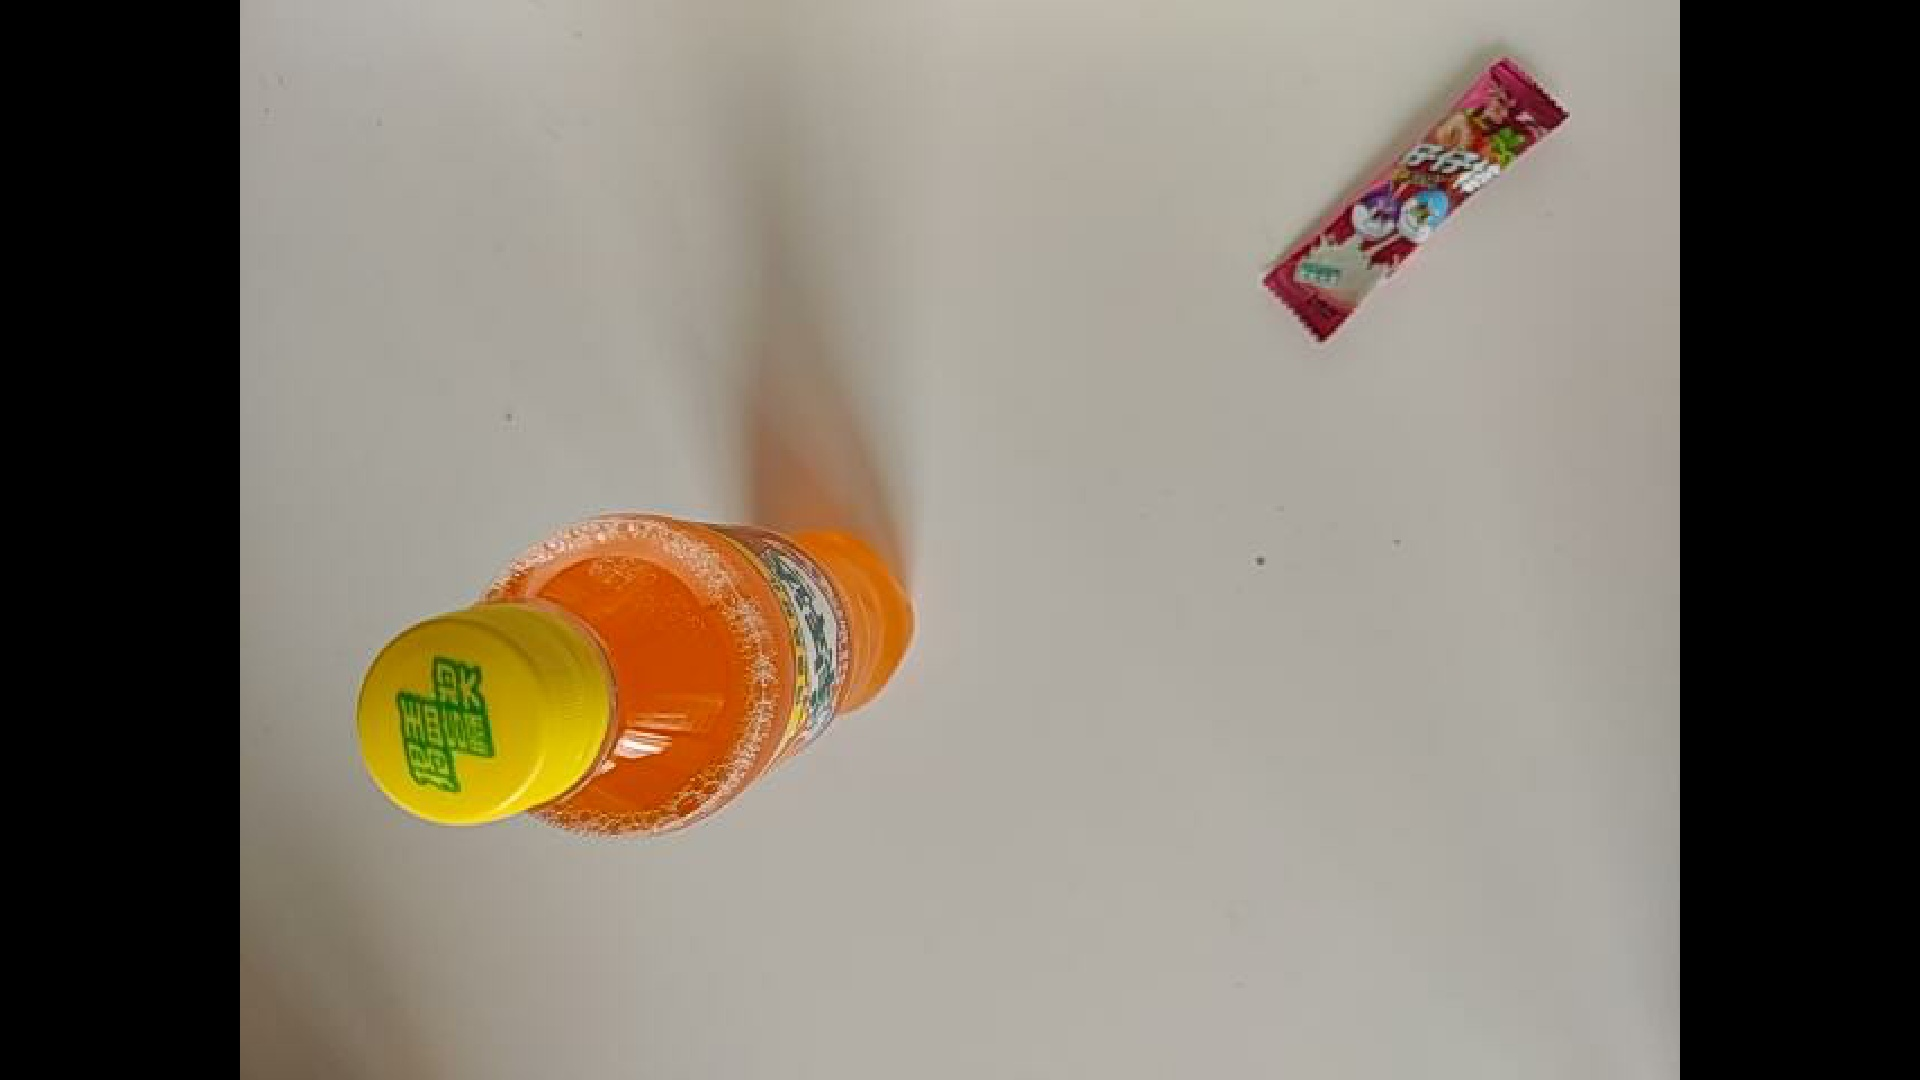fenta: (353, 513, 918, 841)
sugar: (1258, 148, 1629, 353)
